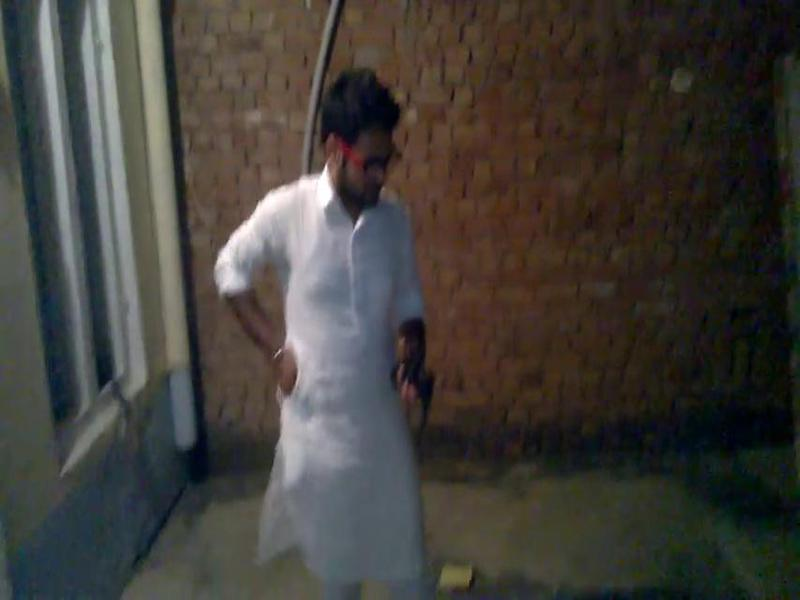Revolver: (387, 347, 446, 454)
